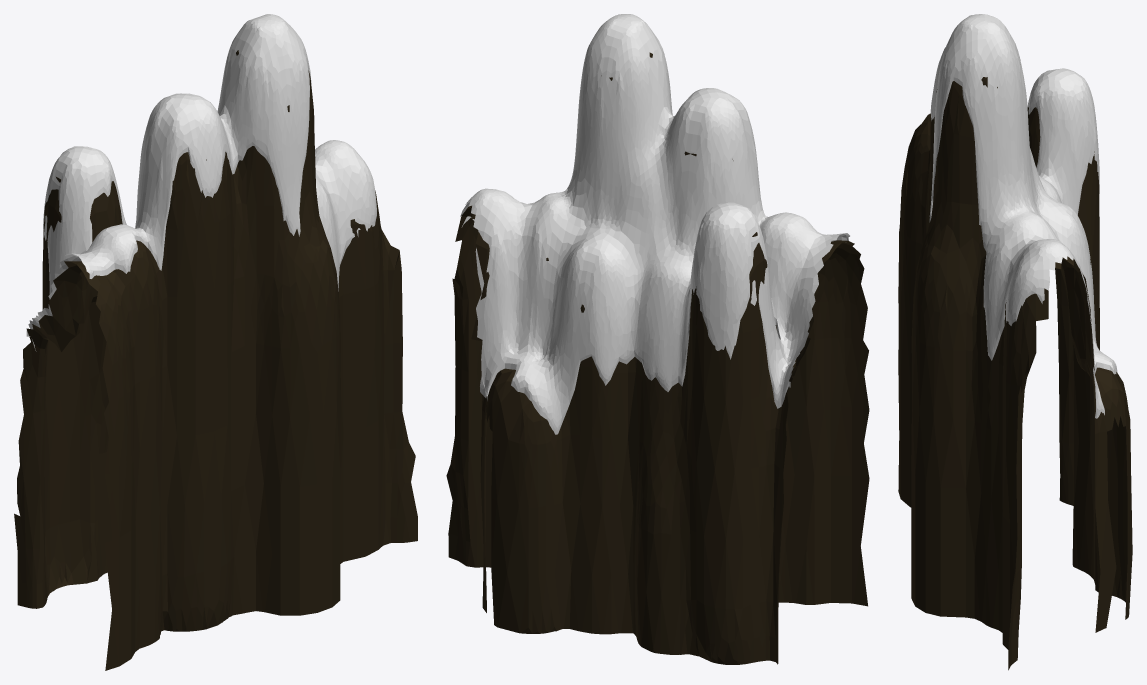
File: Mtn_Wall_S0_M.fbx
3 views of the same model, side by side, from view 1: azimuth 30°, elevation 25°; view 2: azimuth 150°, elevation 25°; view 3: azimuth 270°, elevation 25° (orthographic).
Parts seen in each view (by area): view 1: Mtn_Wall_S0_M; view 2: Mtn_Wall_S0_M; view 3: Mtn_Wall_S0_M.
Boxes of the visible parts, x1=… form: Mtn_Wall_S0_M: x1=14, y1=14, x2=417, y2=670; Mtn_Wall_S0_M: x1=446, y1=14, x2=869, y2=664; Mtn_Wall_S0_M: x1=898, y1=14, x2=1132, y2=670.
Bounding box in the file's own units: 18459 × 27360 × 10141.
